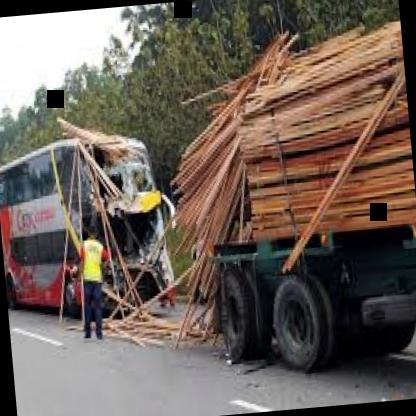accident: (10, 108, 193, 344)
